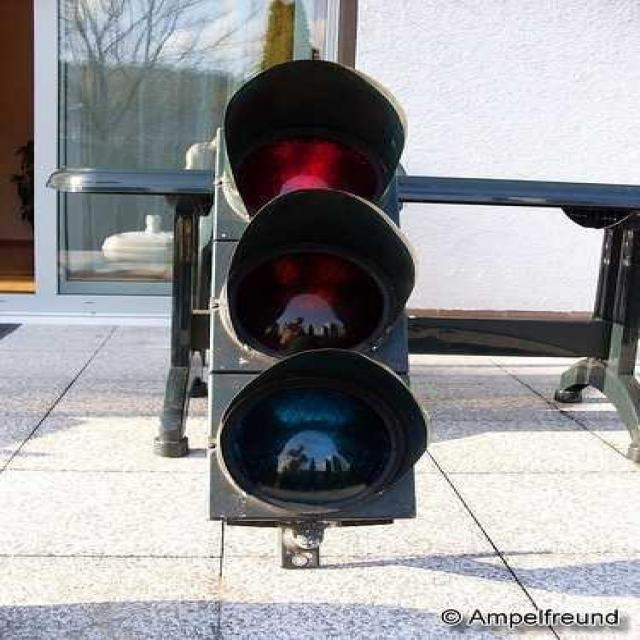red_light: (204, 48, 436, 586)
